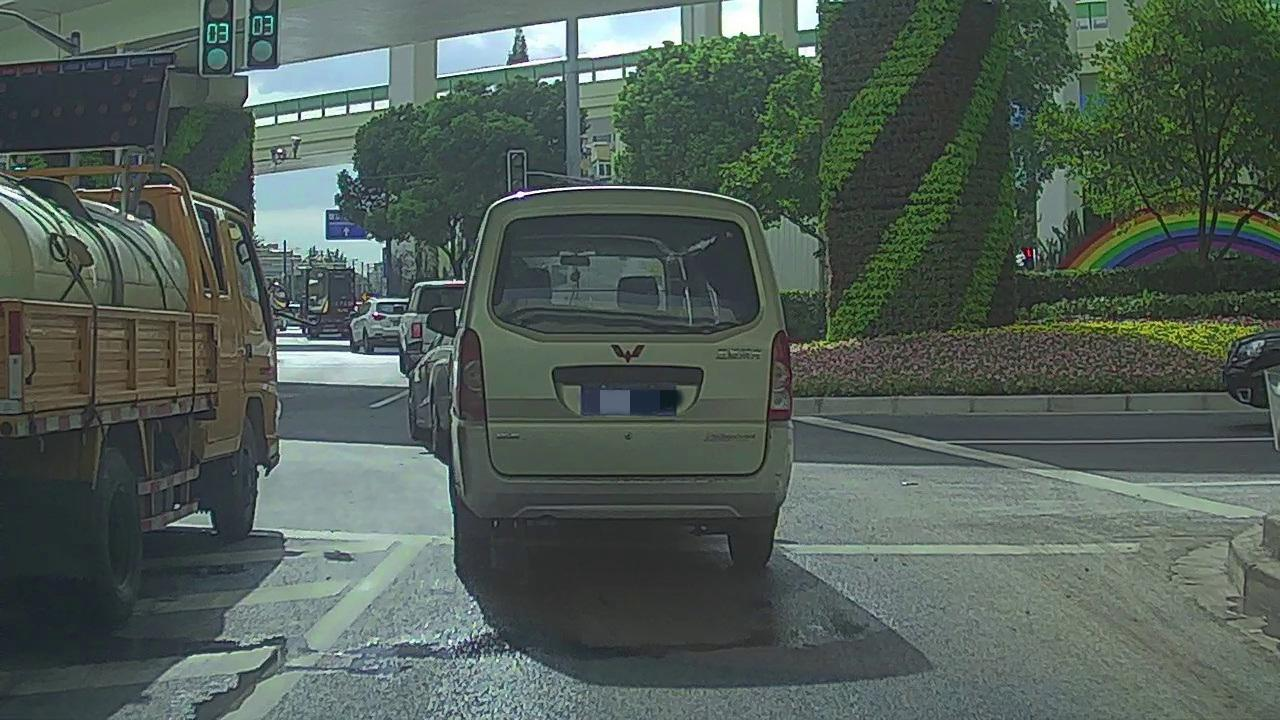traffic_light: (200, 1, 234, 75), (249, 1, 278, 66), (509, 151, 527, 191)
